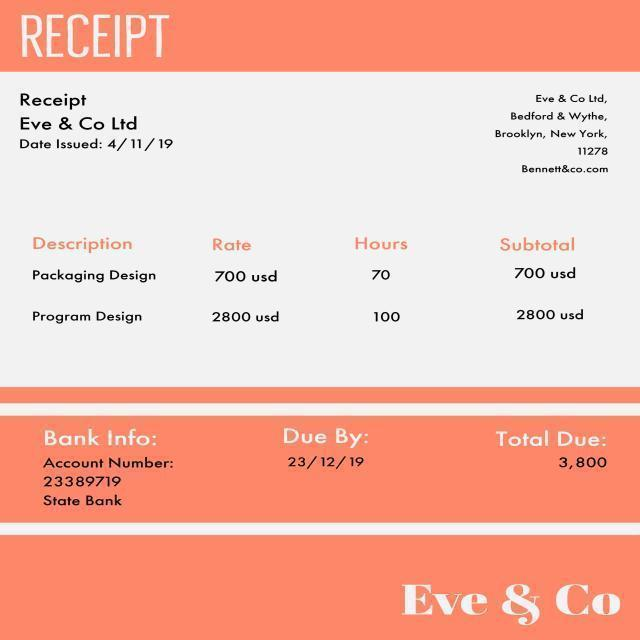paragraph: (392, 568, 633, 633), (30, 421, 182, 515), (486, 86, 621, 183), (15, 83, 181, 156), (13, 6, 176, 65), (491, 416, 614, 483), (270, 416, 378, 479)
table: (14, 220, 600, 349)
